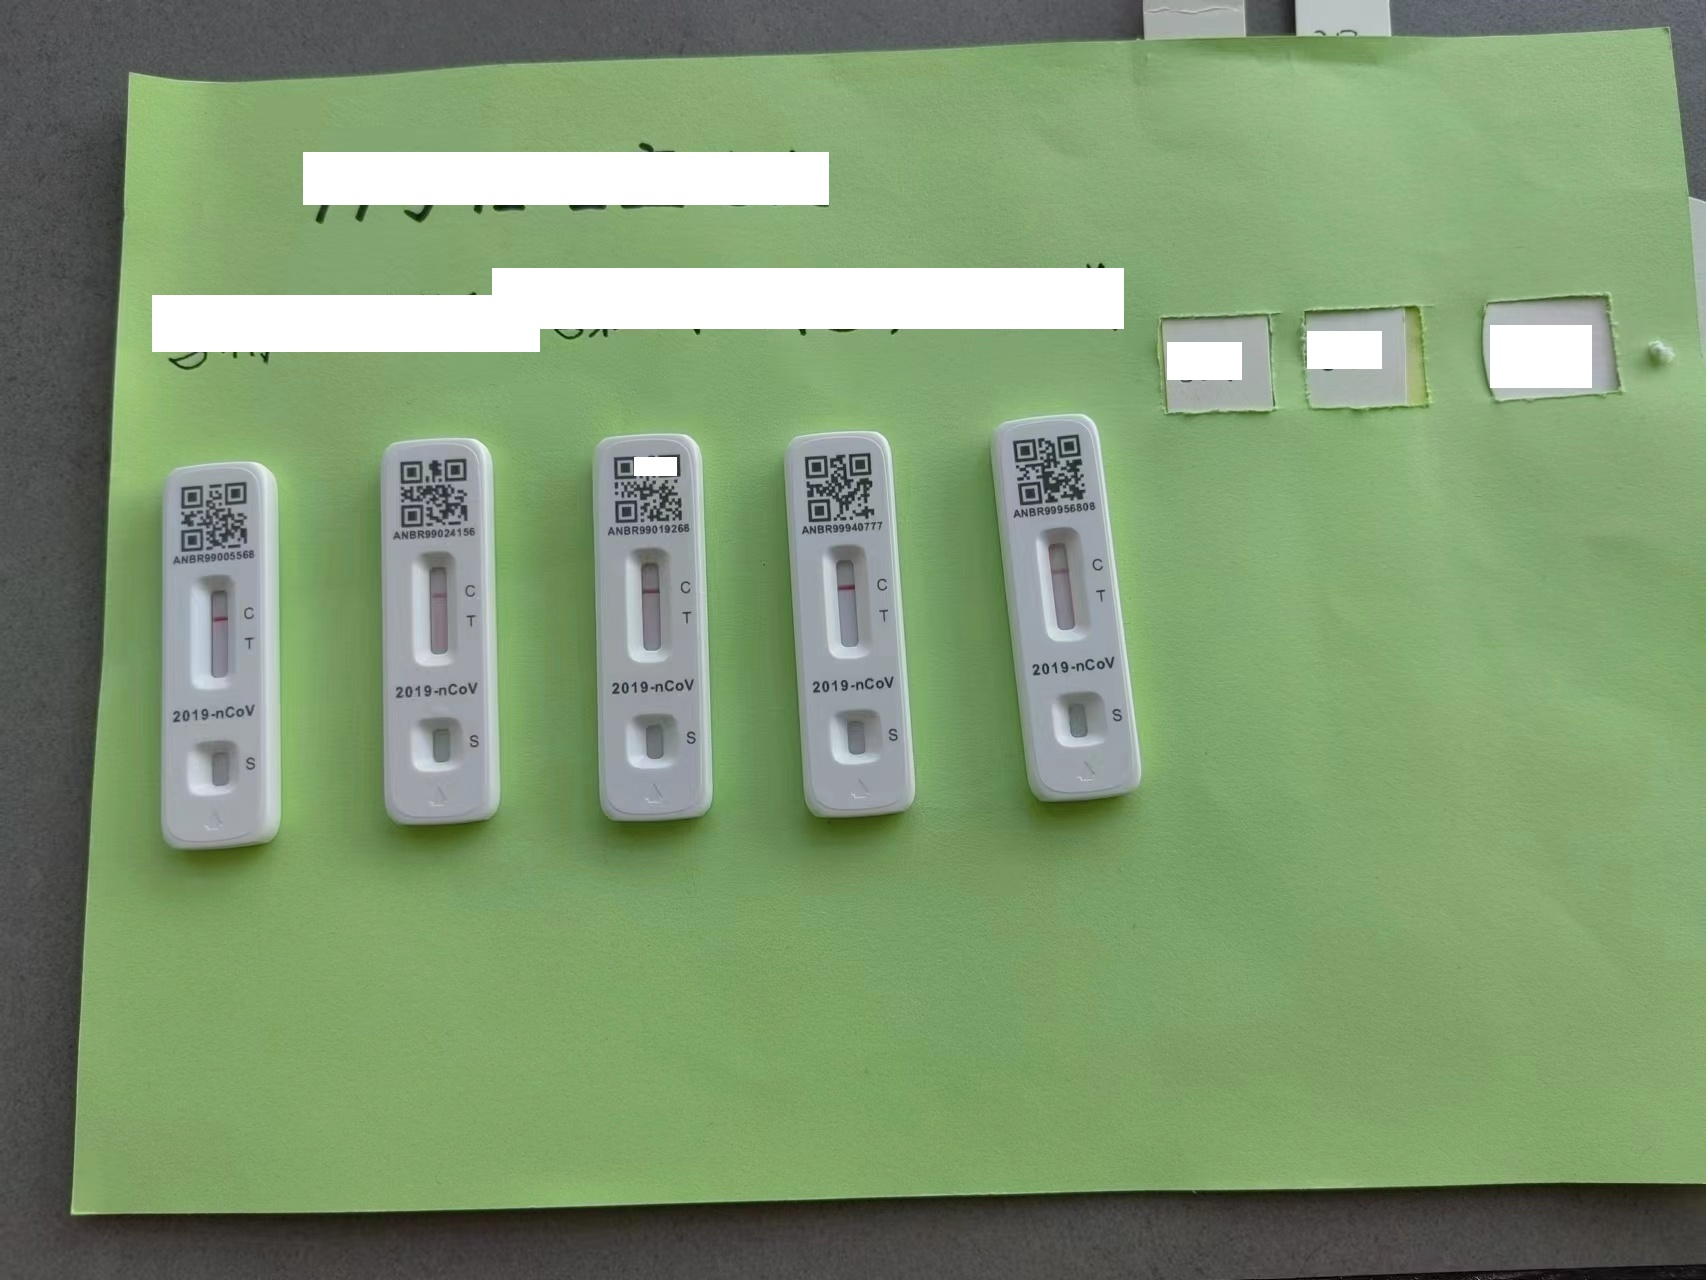negative: (184, 566, 243, 695)
